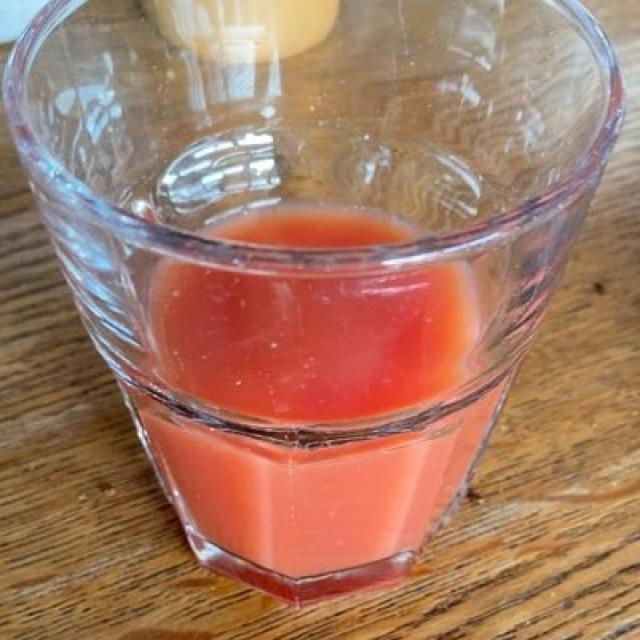juice: (111, 179, 494, 578)
